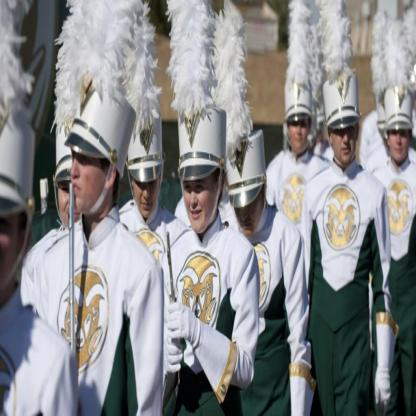face: (71, 137, 107, 212), (1, 204, 28, 296), (183, 169, 217, 234), (58, 168, 85, 231), (233, 191, 263, 237), (331, 113, 358, 164), (134, 172, 161, 218), (390, 121, 410, 164), (289, 110, 309, 151)
